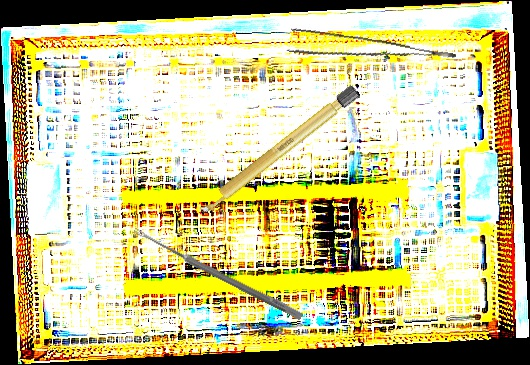Scalpel Handle: (194, 83, 361, 219)
Surgical Spoon: (132, 226, 304, 321)
Tissue Forceps: (285, 19, 457, 86)
